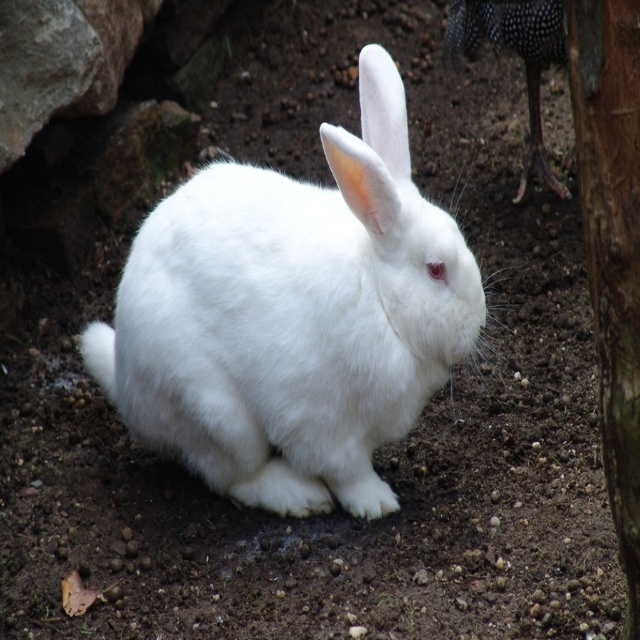Rabbit: (79, 42, 521, 524)
